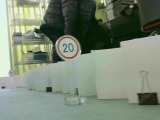speed_20: (52, 34, 83, 61)
